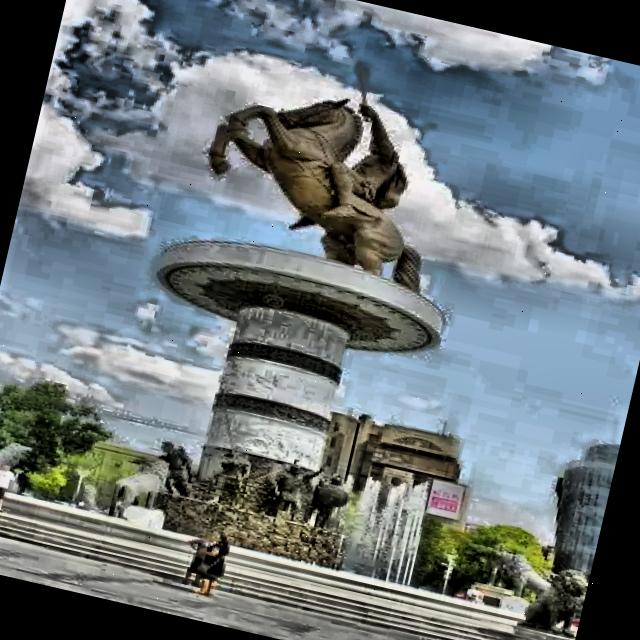alexander the great monument: (113, 26, 500, 578)
